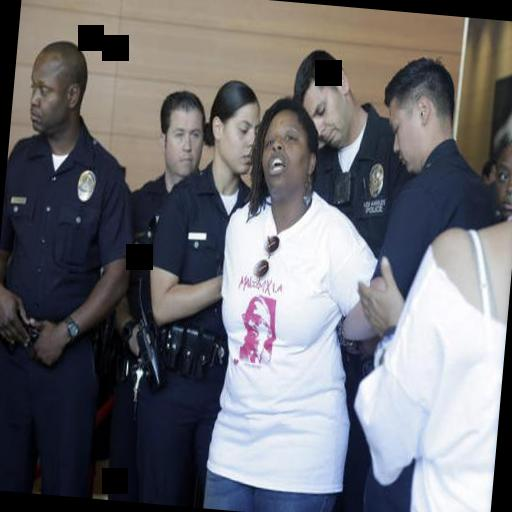Handgun: (131, 316, 176, 392)
